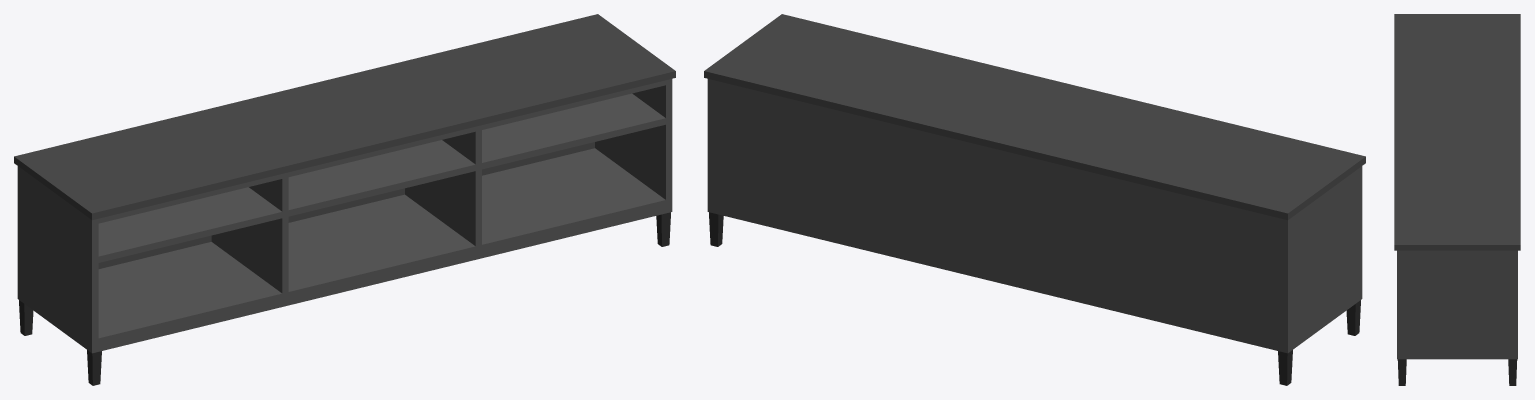
File: TV_Table2_C2.fbx
The picture shows the model from 3 angles, left to right: view 1: azimuth 30°, elevation 25°; view 2: azimuth 150°, elevation 25°; view 3: azimuth 270°, elevation 25°; orthographic projection. The views are drawn at different scales.
Parts seen in each view (by area): view 1: TV_Table2_C2; view 2: TV_Table2_C2; view 3: TV_Table2_C2.
Boxes of the visible parts, bbox=[...] form: TV_Table2_C2: bbox=[14, 14, 675, 385]; TV_Table2_C2: bbox=[704, 14, 1365, 385]; TV_Table2_C2: bbox=[1394, 14, 1520, 385].
Size of the model in its own units: 181 by 52 by 41.9.
